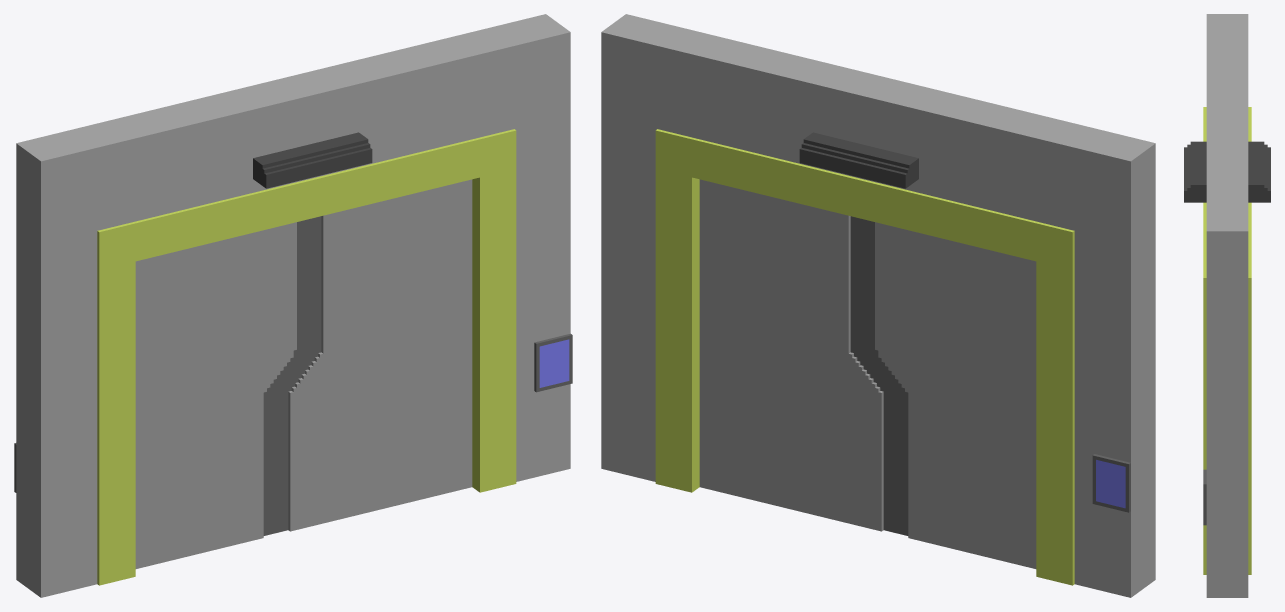
File: Operating_room_Door3-1-1.fbx
3 renders of one model, left to right at view 1: azimuth 30°, elevation 25°; view 2: azimuth 150°, elevation 25°; view 3: azimuth 270°, elevation 25°, orthographic. The views are drawn at different scales.
Parts seen in each view (by area): view 1: Operating room Door3-1-1.003, Operating room Door3-1-1.008, Operating room Door3-1-1.002, Operating room Door3-1-1.001, Operating room Door3-1-1.009, Operating room Door3-1-1.014; view 2: Operating room Door3-1-1.003, Operating room Door3-1-1.008, Operating room Door3-1-1.002, Operating room Door3-1-1.001, Operating room Door3-1-1.009, Operating room Door3-1-1.007; view 3: Operating room Door3-1-1.009, Operating room Door3-1-1.003, Operating room Door3-1-1.001.
Part boxes in pixels (box(x1,y1,x2,y2)): Operating room Door3-1-1.003: box(73, 28, 516, 585); Operating room Door3-1-1.008: box(275, 179, 472, 533); Operating room Door3-1-1.002: box(135, 219, 308, 568); Operating room Door3-1-1.001: box(14, 129, 97, 597); Operating room Door3-1-1.009: box(490, 14, 572, 481); Operating room Door3-1-1.014: box(539, 339, 569, 387); Operating room Door3-1-1.003: box(655, 28, 1098, 585); Operating room Door3-1-1.008: box(699, 179, 896, 533); Operating room Door3-1-1.002: box(863, 219, 1036, 568); Operating room Door3-1-1.001: box(1074, 129, 1155, 597); Operating room Door3-1-1.009: box(601, 14, 681, 481); Operating room Door3-1-1.007: box(1096, 459, 1125, 508); Operating room Door3-1-1.009: box(1203, 208, 1248, 597); Operating room Door3-1-1.003: box(1184, 37, 1270, 574); Operating room Door3-1-1.001: box(1206, 14, 1248, 36).
Bounding box in the file's own units: 16 × 12.6 × 2.7.
